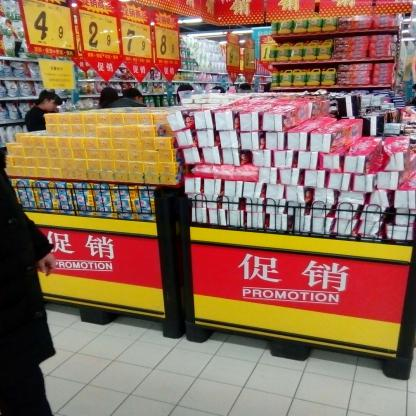Void: (279, 65, 335, 70)
